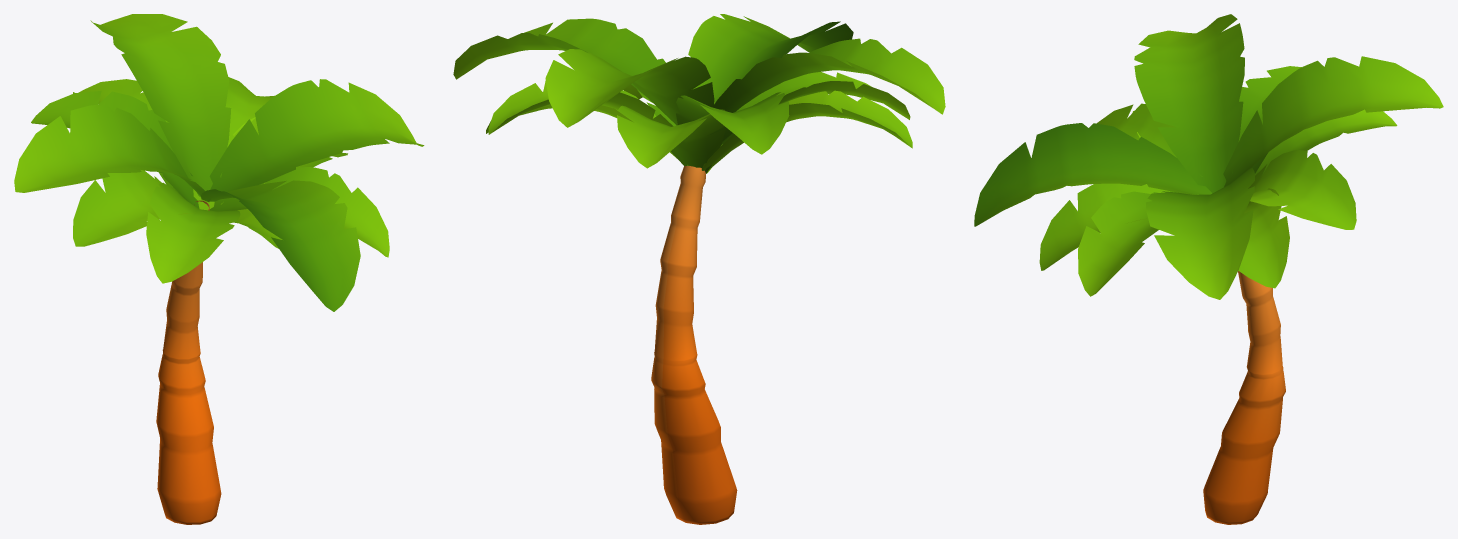
File: Plant_Coconut_Palm_01.fbx
3 views of the same model, side by side, from view 1: azimuth 30°, elevation 25°; view 2: azimuth 150°, elevation 25°; view 3: azimuth 270°, elevation 25° (orthographic). The views are drawn at different scales.
Parts seen in each view (by area): view 1: Plant_Coconut_Palm_01; view 2: Plant_Coconut_Palm_01; view 3: Plant_Coconut_Palm_01.
Boxes of the visible parts, x1,y1,x2,y2 form: Plant_Coconut_Palm_01: (14, 14, 424, 524); Plant_Coconut_Palm_01: (453, 14, 945, 524); Plant_Coconut_Palm_01: (974, 14, 1443, 524).
Bounding box in the file's own units: 352 × 359 × 343.
